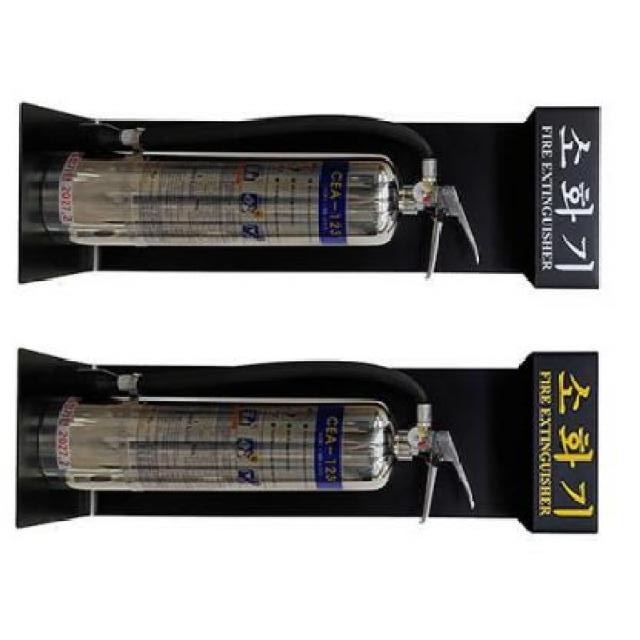fire extinguisher: (42, 113, 480, 279), (40, 359, 477, 525)
